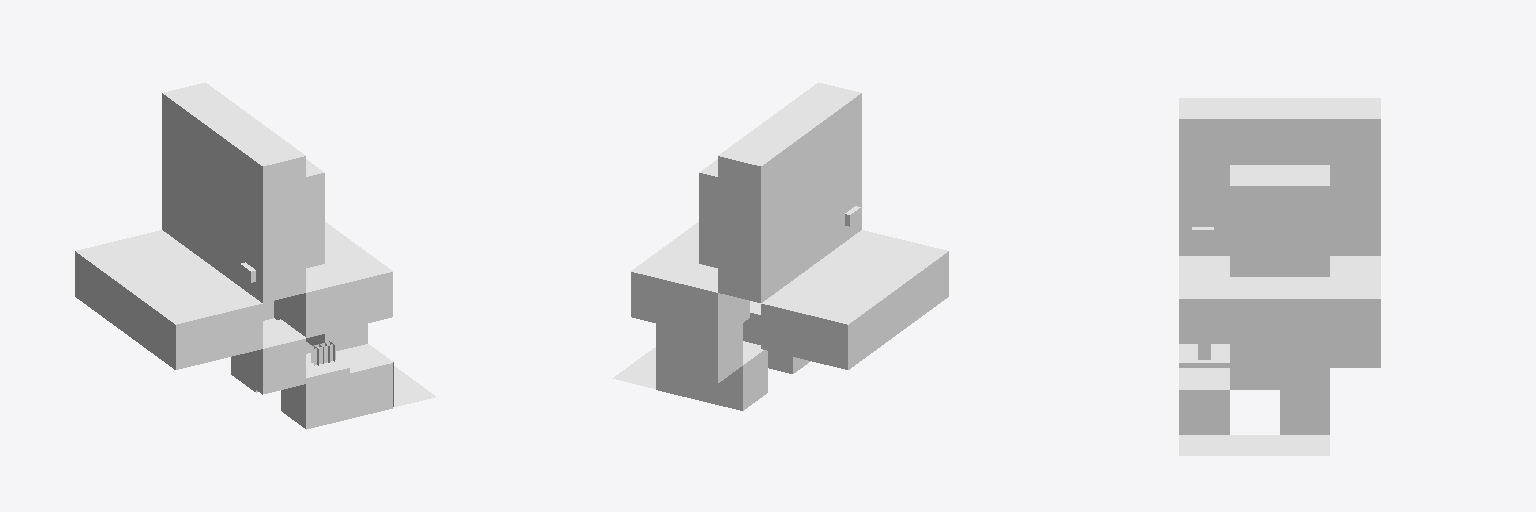
File: twoXtwoHideDoor.obj
The picture shows the model from 3 angles: view 1: azimuth 30°, elevation 25°; view 2: azimuth 150°, elevation 25°; view 3: azimuth 270°, elevation 25°; orthographic projection.
Parts seen in each view (by area): view 1: __-2_18_4_to_3_255_7; view 2: __-2_18_4_to_3_255_7; view 3: __-2_18_4_to_3_255_7.
Boxes of the visible parts, box(x1,y1,x2,y2) form: __-2_18_4_to_3_255_7: box(75, 82, 435, 429); __-2_18_4_to_3_255_7: box(612, 82, 948, 410); __-2_18_4_to_3_255_7: box(1179, 98, 1380, 455).
Bounding box in the file's own units: 6 × 6 × 4.